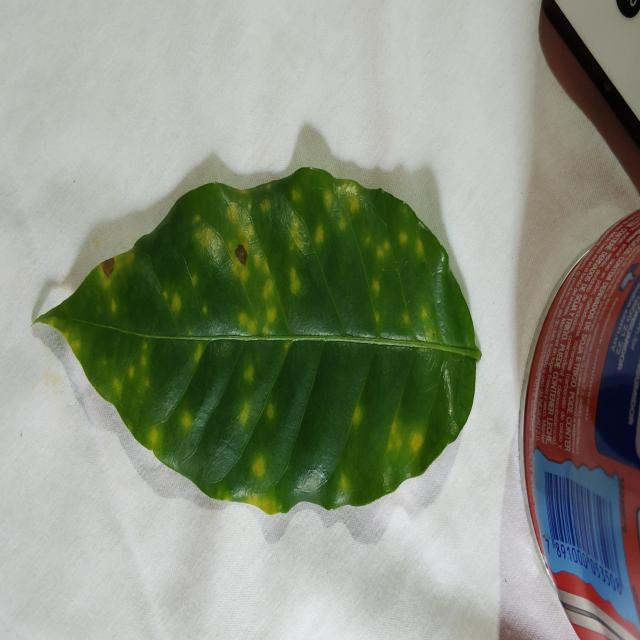Enfermedad-Roya: (35, 165, 482, 517)
